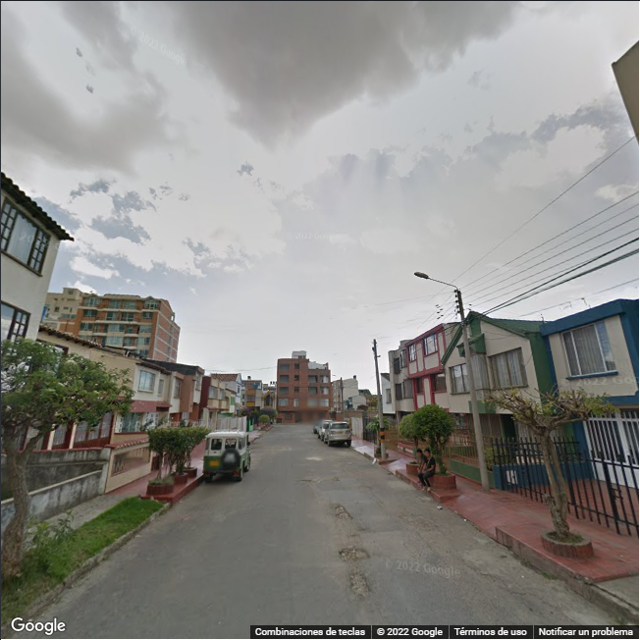D00: (451, 548, 514, 591), (536, 590, 569, 621)
D40: (344, 568, 377, 603), (335, 544, 375, 561)
